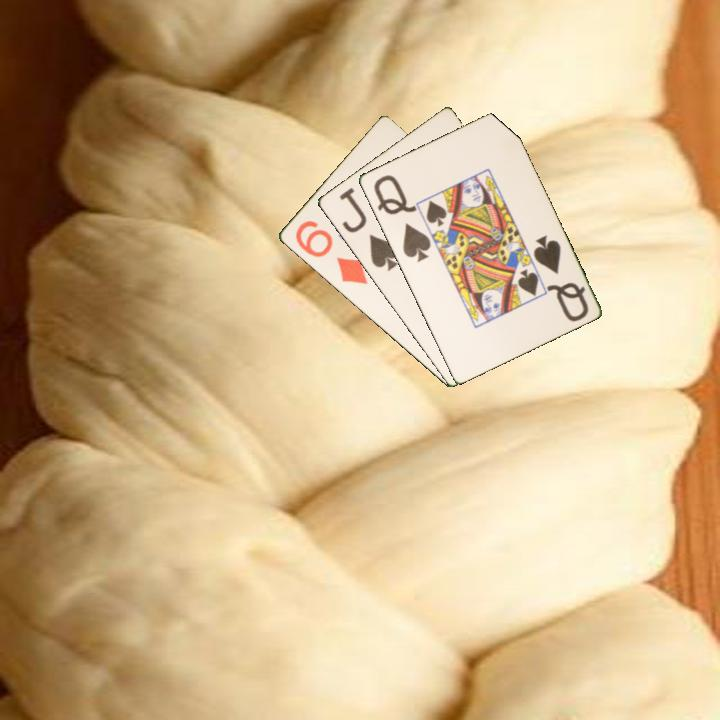6d: (291, 217, 370, 288)
Js: (335, 184, 401, 274)
Qs: (370, 171, 434, 265), (529, 232, 591, 325)
